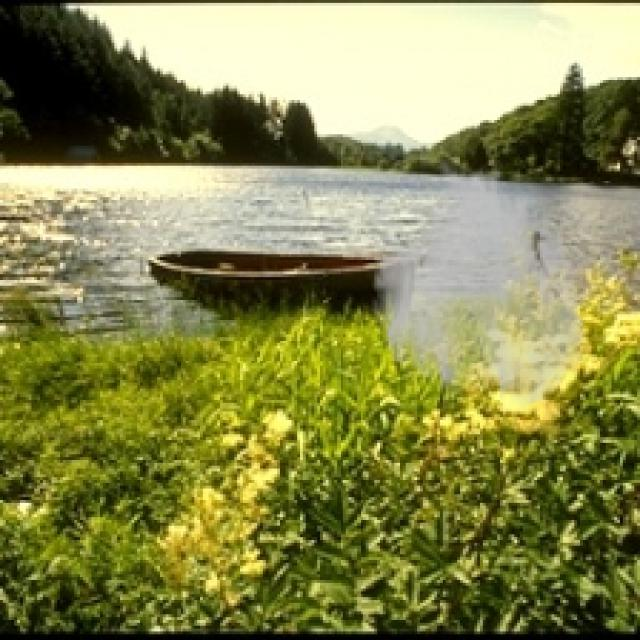smoke: (368, 154, 588, 412)
